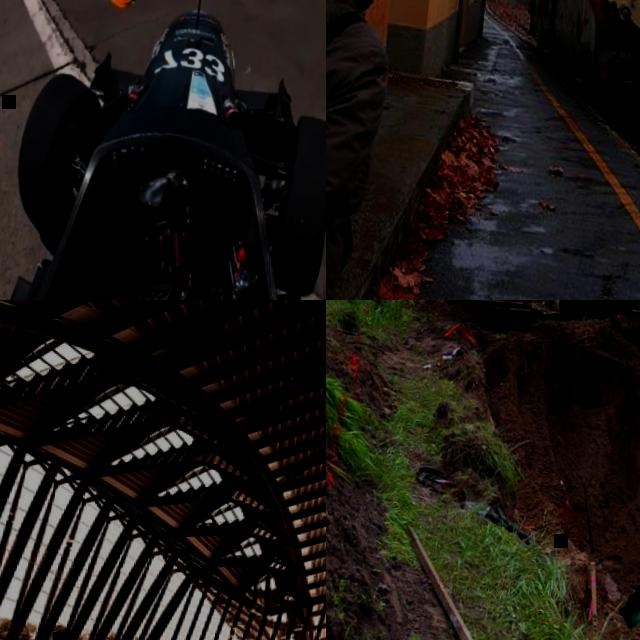NO-Safety Vest: (326, 0, 383, 271)
Person: (326, 0, 409, 300)
machinery: (391, 300, 640, 640)
vehicle: (0, 0, 326, 300)
